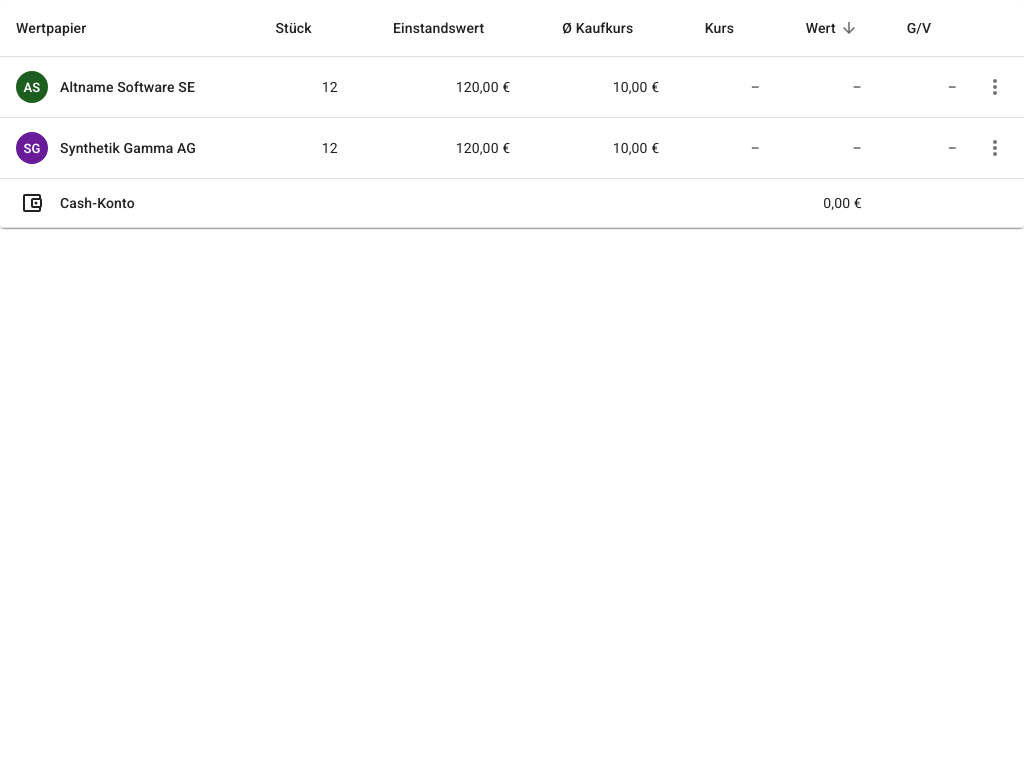
Scenario: IsinChangeDialog from the Positions row menu › opens for the row's Security and lists only its ISIN changes
Click the button named "Aktionen für Altname Software SE": click(995, 87) [973, 65, 1017, 109]
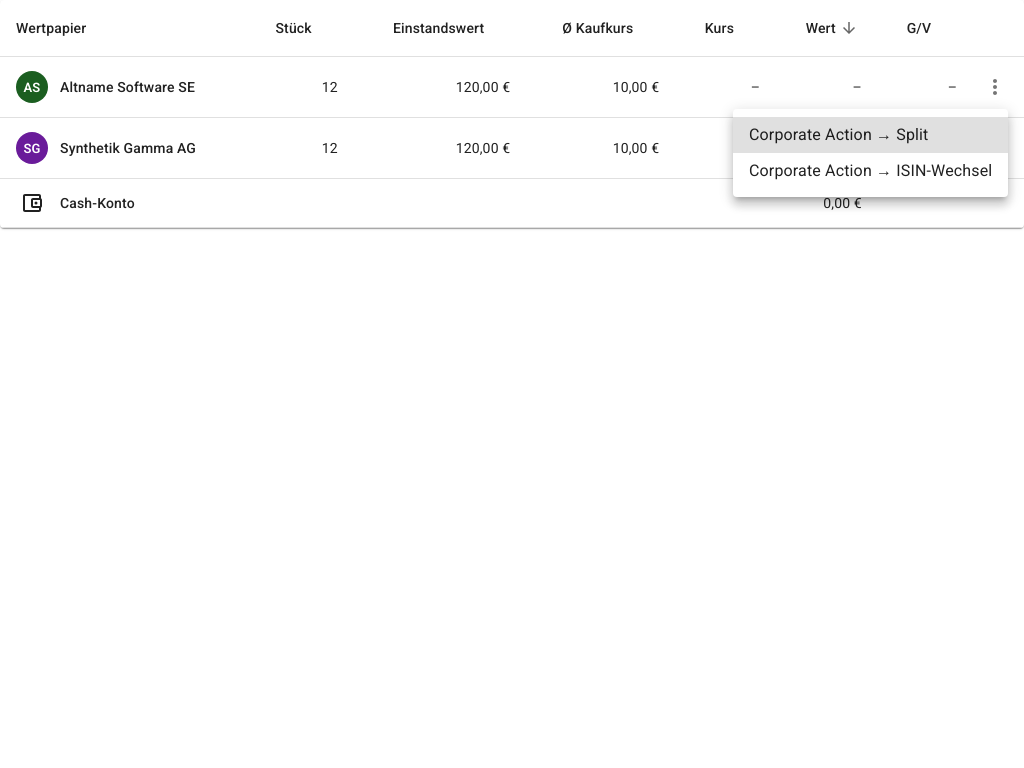
Click the menu item "Corporate Action → ISIN-Wechsel": click(871, 170) [749, 161, 992, 180]
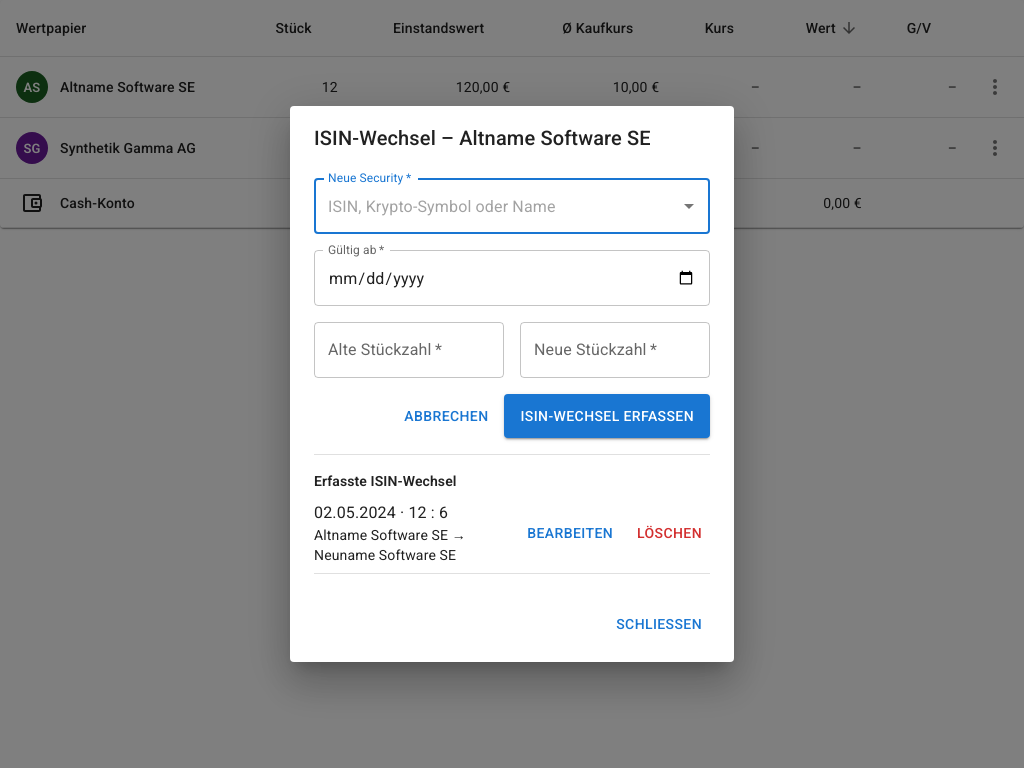
Expected: the number of list items is 1, [314, 493, 710, 574]
Expected: the list item shows "Altname Software SE → Neuname Software SE", [314, 493, 710, 574]
